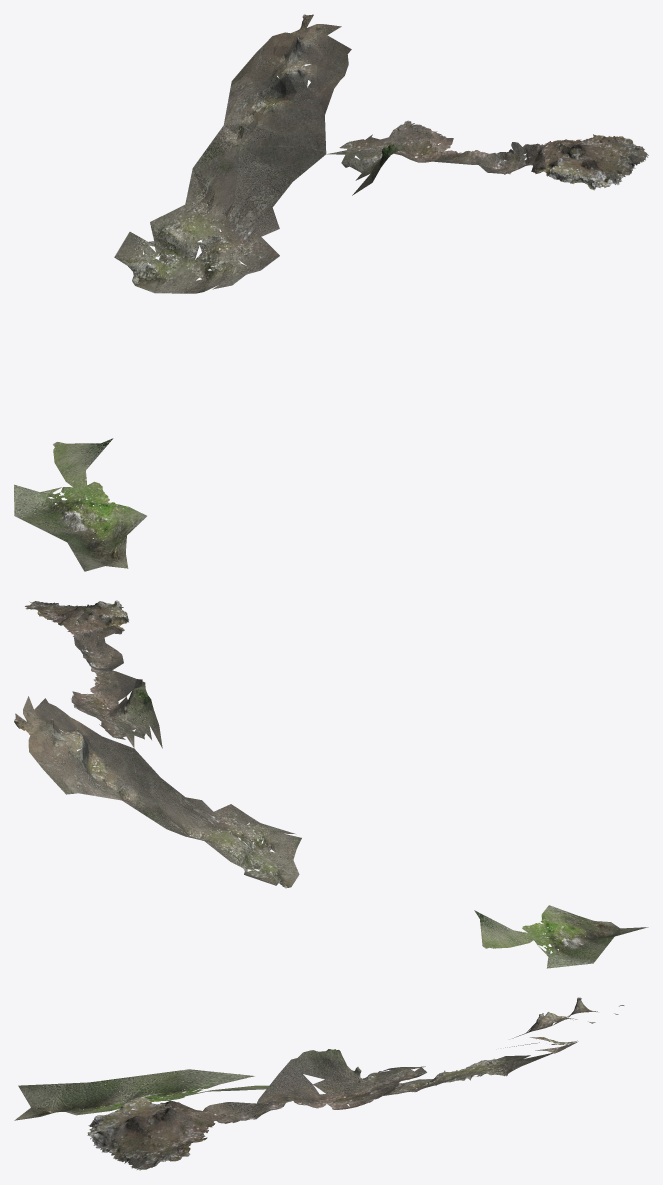
3 renders of one model, top to bottom at view 1: azimuth 30°, elevation 25°; view 2: azimuth 150°, elevation 25°; view 3: azimuth 270°, elevation 25°, orthographic. The views are drawn at different scales.
Bounding box in the file's own units: 90.64 × 40.73 × 61.17.
1 material, 1 textured.
